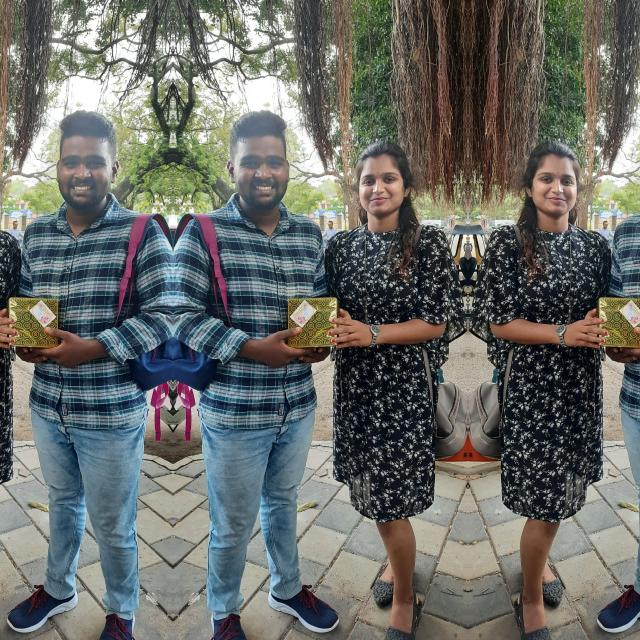person: (176, 101, 342, 624), (2, 101, 168, 624), (469, 144, 618, 626), (316, 144, 464, 626), (592, 100, 640, 623), (0, 144, 28, 626)
